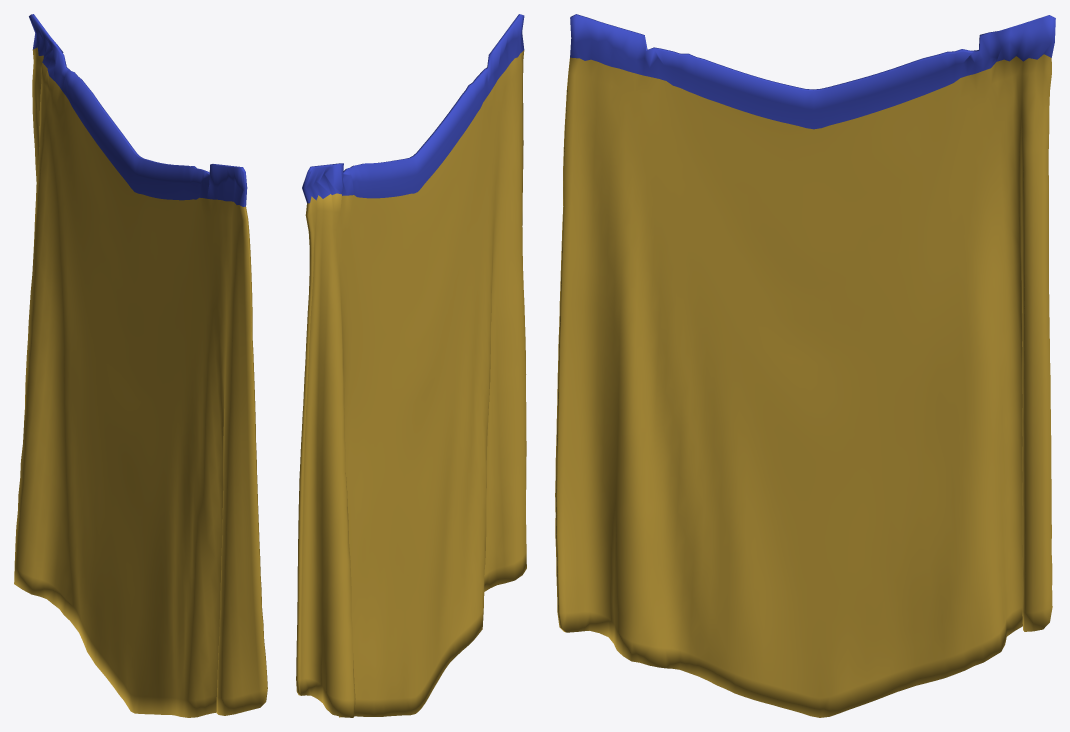
Rendered from cape.fbx.
3 views of the same model, side by side, from view 1: azimuth 30°, elevation 25°; view 2: azimuth 150°, elevation 25°; view 3: azimuth 270°, elevation 25° (orthographic). The views are drawn at different scales.
Visible parts, largest first — view 1: Plane; view 2: Plane; view 3: Plane.
Boxes of the visible parts, bbox=[...] form: Plane: bbox=[14, 14, 267, 717]; Plane: bbox=[296, 14, 526, 717]; Plane: bbox=[555, 14, 1055, 717].
Size of the model in its own units: 0.1733 by 2.1 by 1.36.
